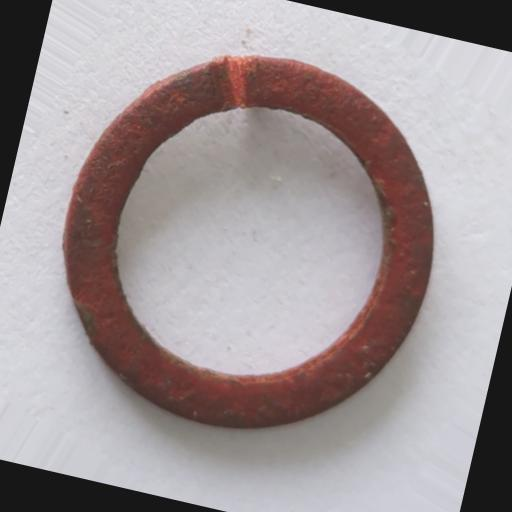defect: (217, 49, 259, 108)
